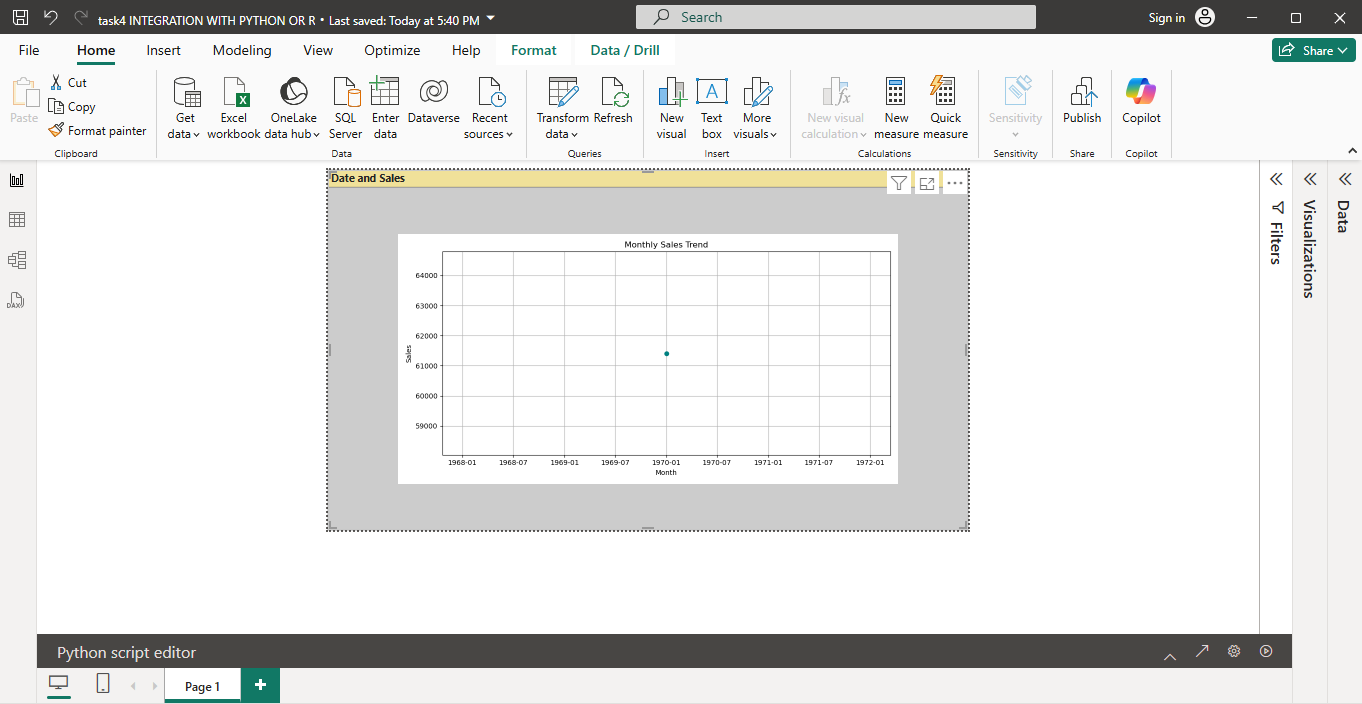

The page's visual inventory and layout, read from the dashboard file:
{"tool":"powerbi","page":{"name":"Page 1","canvas":[1280,720],"ordinal":0},"visuals":[{"type":"pythonVisual","fields":{"Values":["Sheet1.Date","Sheet1.Sales"]},"box":[0,0,1280,636],"z":0}]}

Visuals, with their boxes on the page's 1280x720 design canvas (x1, y1, x2, y2). These are canvas units, not pixel positions in the 1362x704 screenshot, which may show the page scaled, cropped or inside an application window:
pythonVisual - Sheet1.Date x Sheet1.Sales: (x1=0, y1=0, x2=1280, y2=636)
